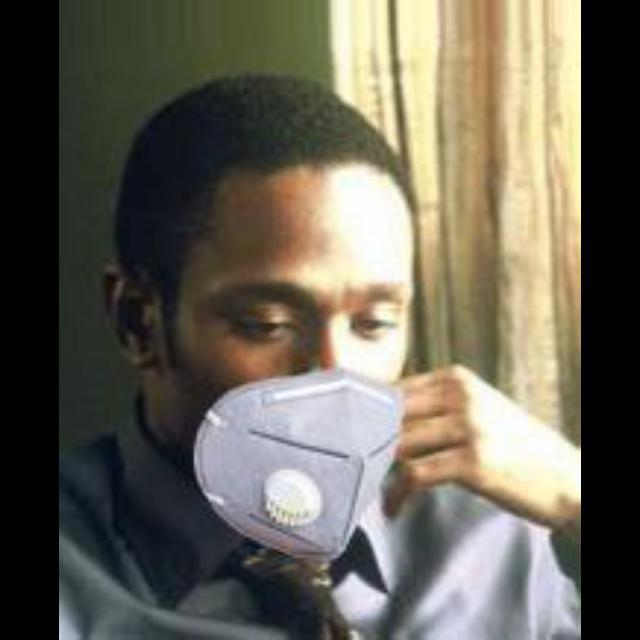suspicion: (148, 84, 422, 483)
